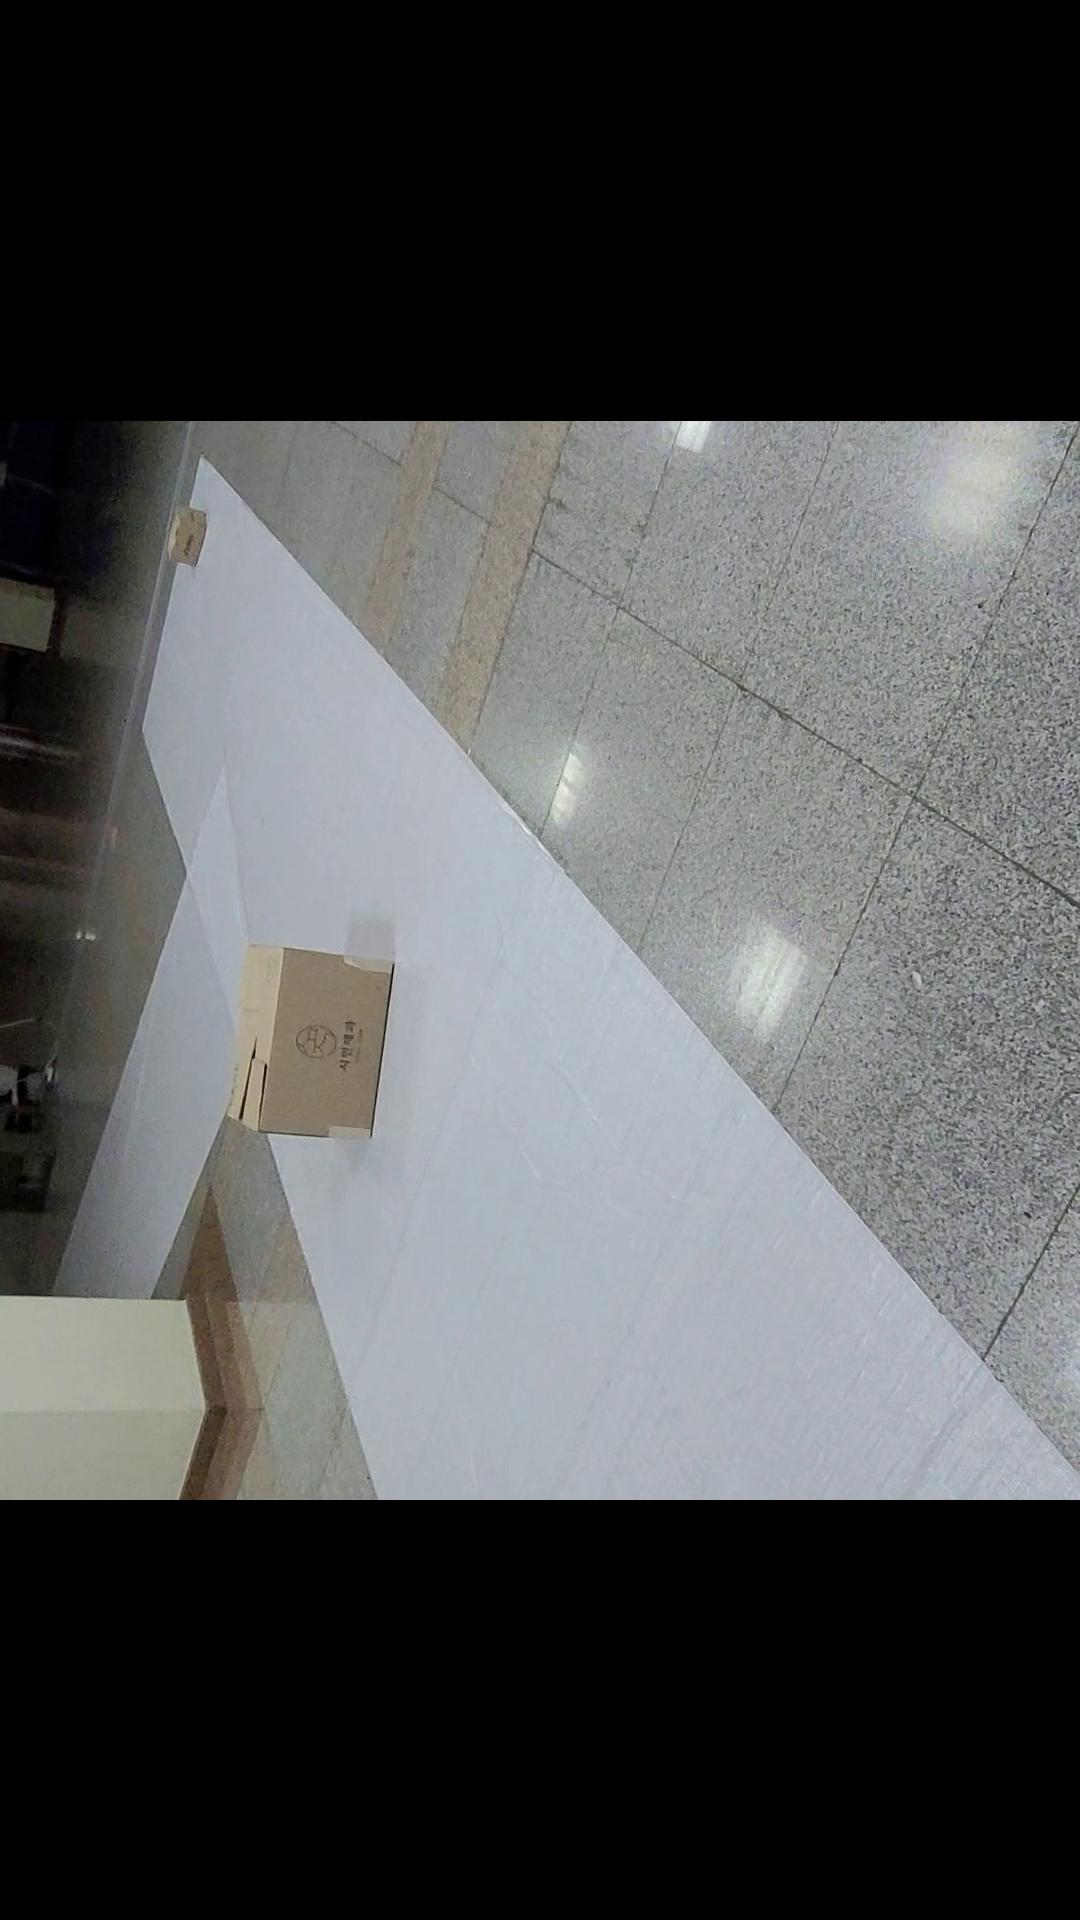Box: (229, 916, 410, 1179), (131, 491, 229, 572)
